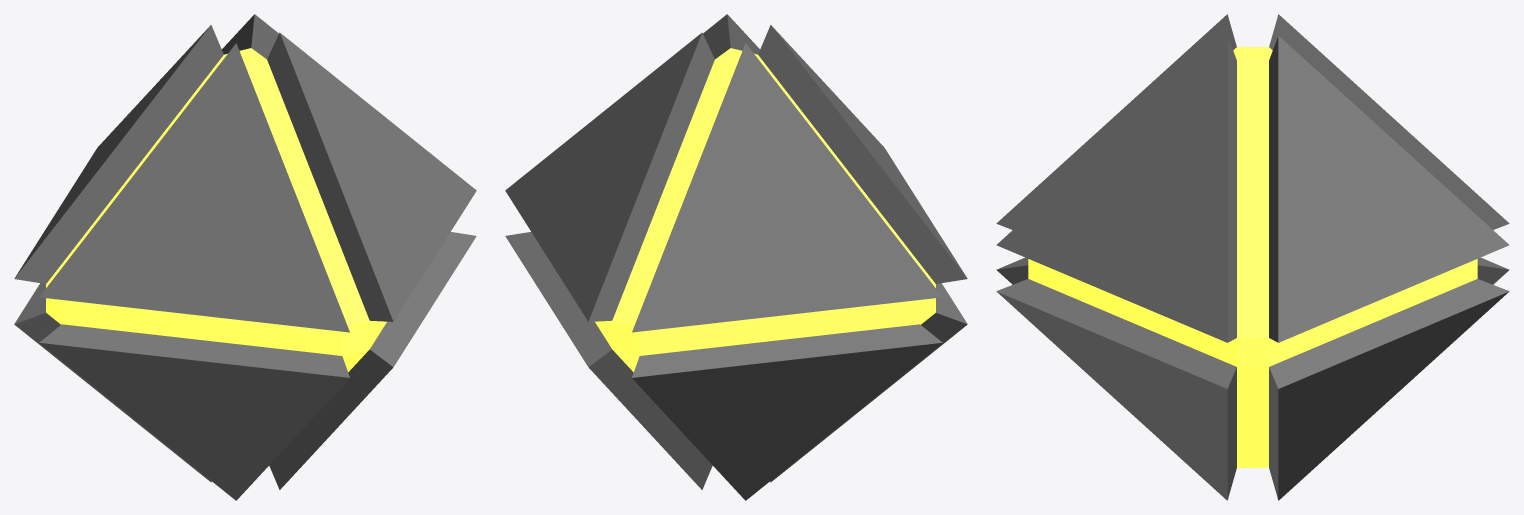
File: powerup.fbx
3 views of the same model, side by side, from view 1: azimuth 30°, elevation 25°; view 2: azimuth 150°, elevation 25°; view 3: azimuth 270°, elevation 25° (orthographic).
Visible parts, largest first — view 1: Cube; view 2: Cube; view 3: Cube.
Part boxes in pixels (x1=…): Cube: x1=14, y1=14, x2=476, y2=500; Cube: x1=505, y1=14, x2=967, y2=500; Cube: x1=996, y1=14, x2=1509, y2=500.
Bounding box in the file's own units: 200 × 200 × 200.
